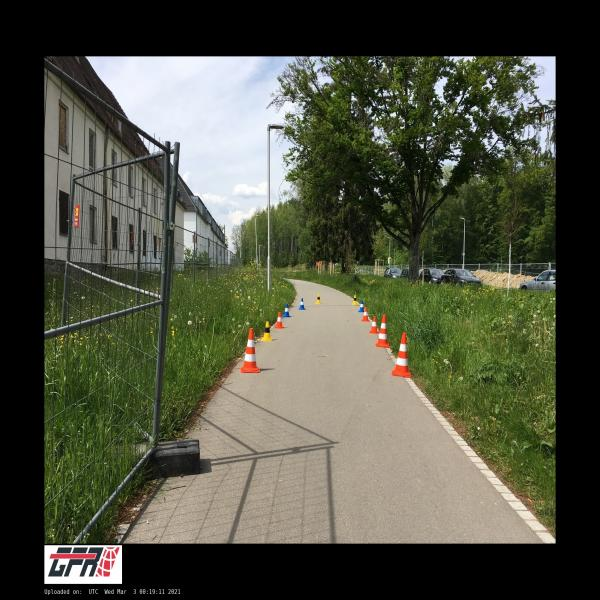blue_cone: (283, 304, 290, 317), (298, 299, 305, 310), (359, 300, 364, 312)
large_orange_cone: (240, 328, 260, 373), (392, 333, 411, 377), (376, 314, 390, 347)
orange_cone: (274, 312, 284, 328), (370, 316, 378, 334), (361, 308, 369, 321)
yellow_cone: (261, 321, 273, 341), (352, 295, 358, 305), (316, 294, 321, 304)
